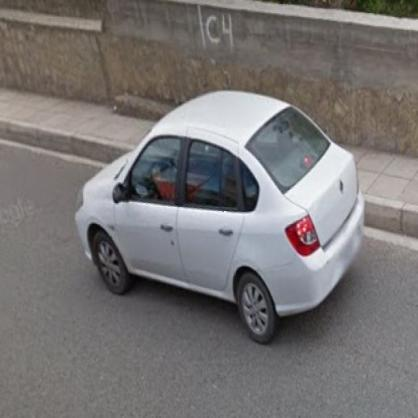car: (82, 89, 363, 346)
